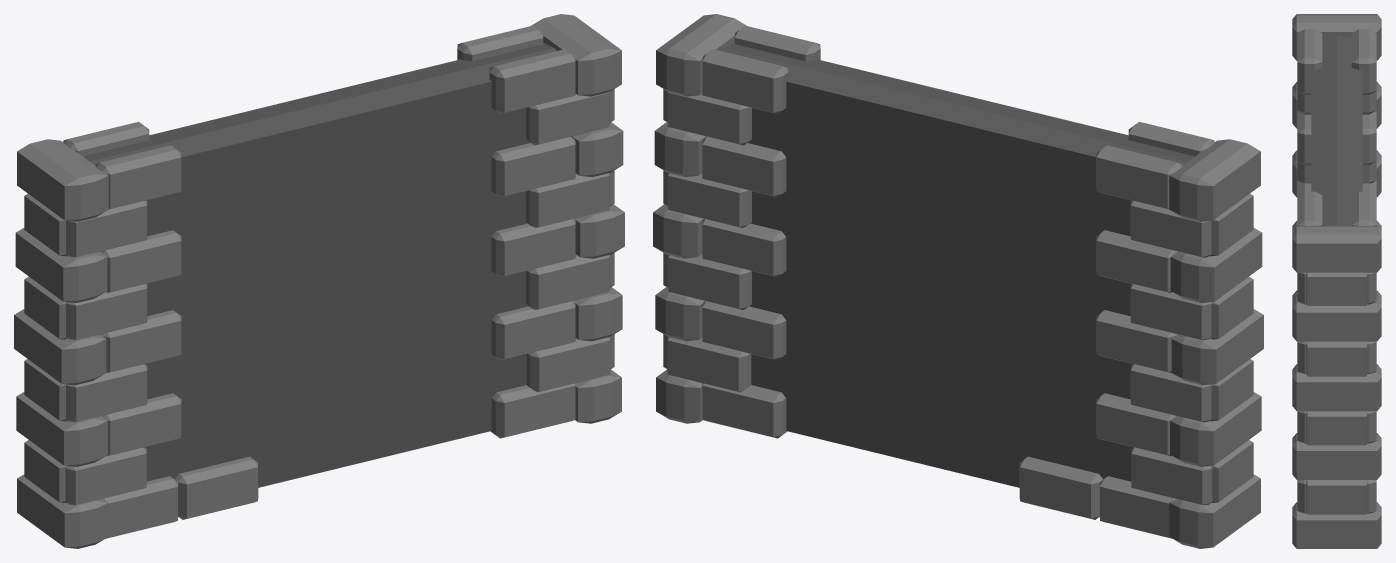
The model's file is DungeonWall.fbx.
3 views of the same model, side by side, from view 1: azimuth 30°, elevation 25°; view 2: azimuth 150°, elevation 25°; view 3: azimuth 270°, elevation 25° (orthographic). The views are drawn at different scales.
Visible parts, largest first — view 1: DungeonWall; view 2: DungeonWall; view 3: DungeonWall.
Part boxes in pixels (bbox=[...]): DungeonWall: bbox=[14, 14, 624, 548]; DungeonWall: bbox=[653, 14, 1263, 548]; DungeonWall: bbox=[1292, 14, 1381, 548].
Size of the model in its own units: 555 by 350 by 90.43.
Materials: 1 (1 with a texture image).
